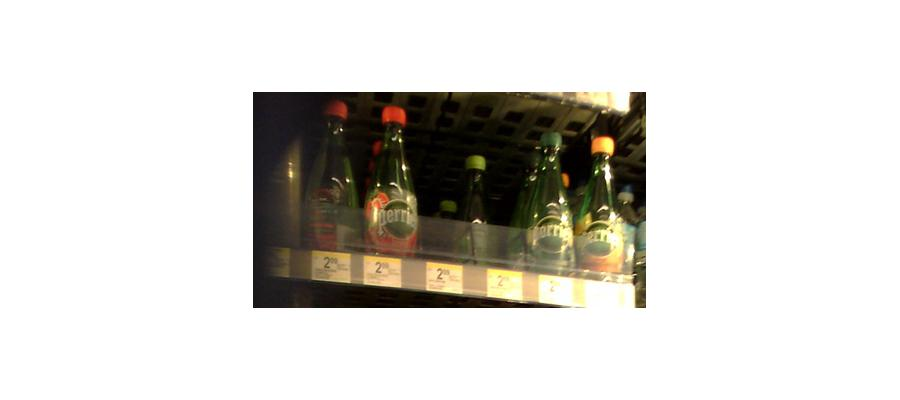bottle: (308, 95, 361, 251), (365, 104, 420, 253), (519, 127, 573, 273), (574, 128, 624, 280), (456, 145, 495, 260)
